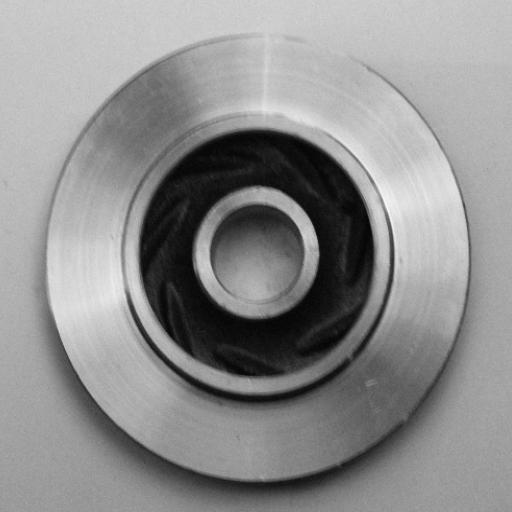unpolished_casting: (45, 26, 474, 488)
